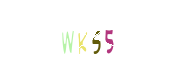5: (68, 0, 148, 80)
K: (49, 0, 129, 80)
S: (56, 0, 136, 80)
W: (39, 0, 119, 80)
